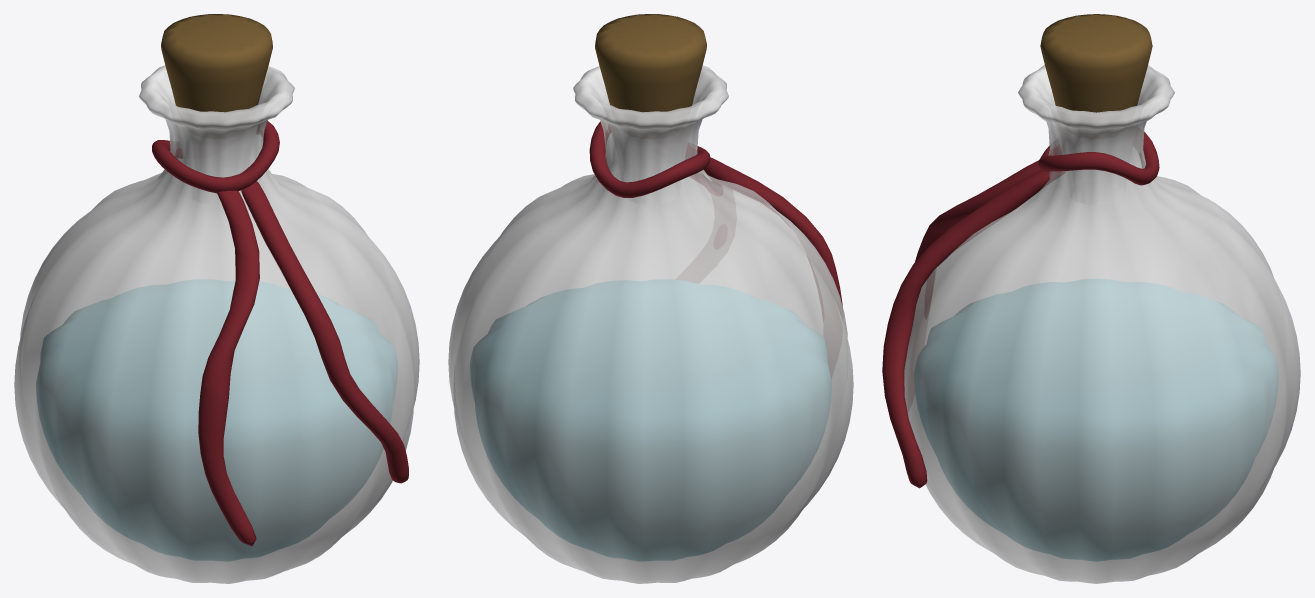
The model's file is sise-mavi.fbx.
3 views of the same model, side by side, from view 1: azimuth 30°, elevation 25°; view 2: azimuth 150°, elevation 25°; view 3: azimuth 270°, elevation 25° (orthographic).
Parts seen in each view (by area): view 1: Cylinder.002; view 2: Cylinder.002; view 3: Cylinder.002.
Part boxes in pixels (x1,y1,x2,y2): Cylinder.002: [14, 14, 419, 583]; Cylinder.002: [448, 14, 853, 583]; Cylinder.002: [882, 14, 1300, 583].
Size of the model in its own units: 17.31 by 24.38 by 17.74.
